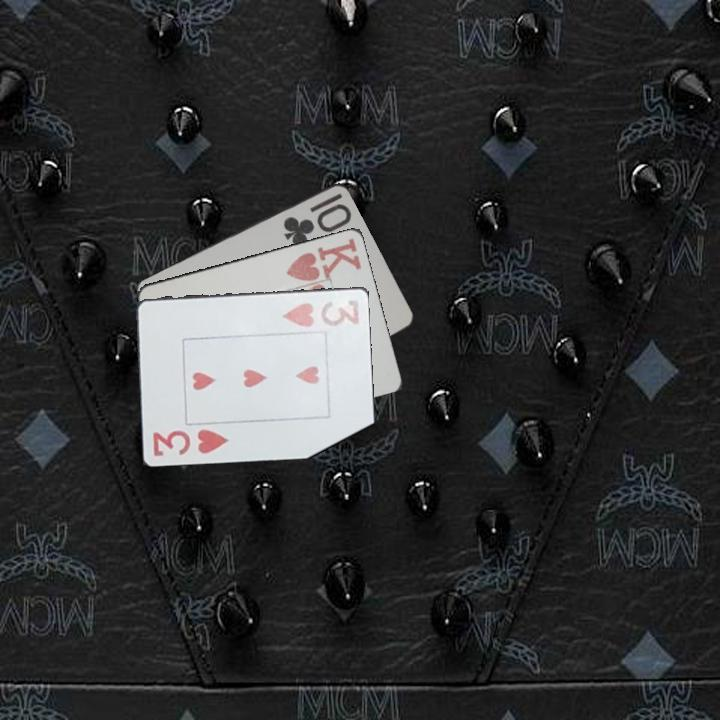3h: (149, 425, 232, 460), (280, 295, 362, 329)
Kh: (283, 234, 364, 284)
Tc: (280, 189, 355, 247)
